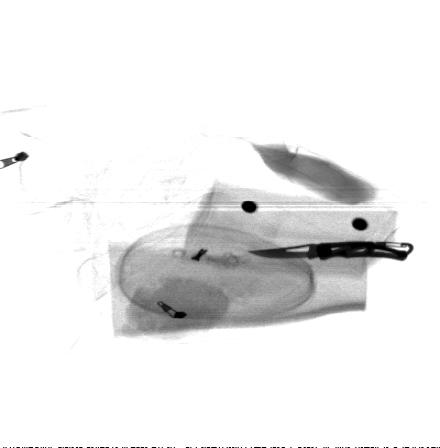Knife: (244, 240, 415, 262)
